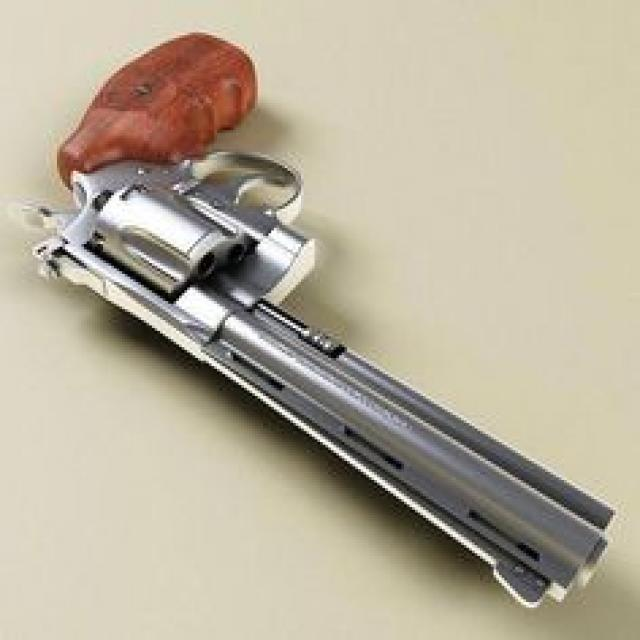revolver: (23, 11, 628, 635)
